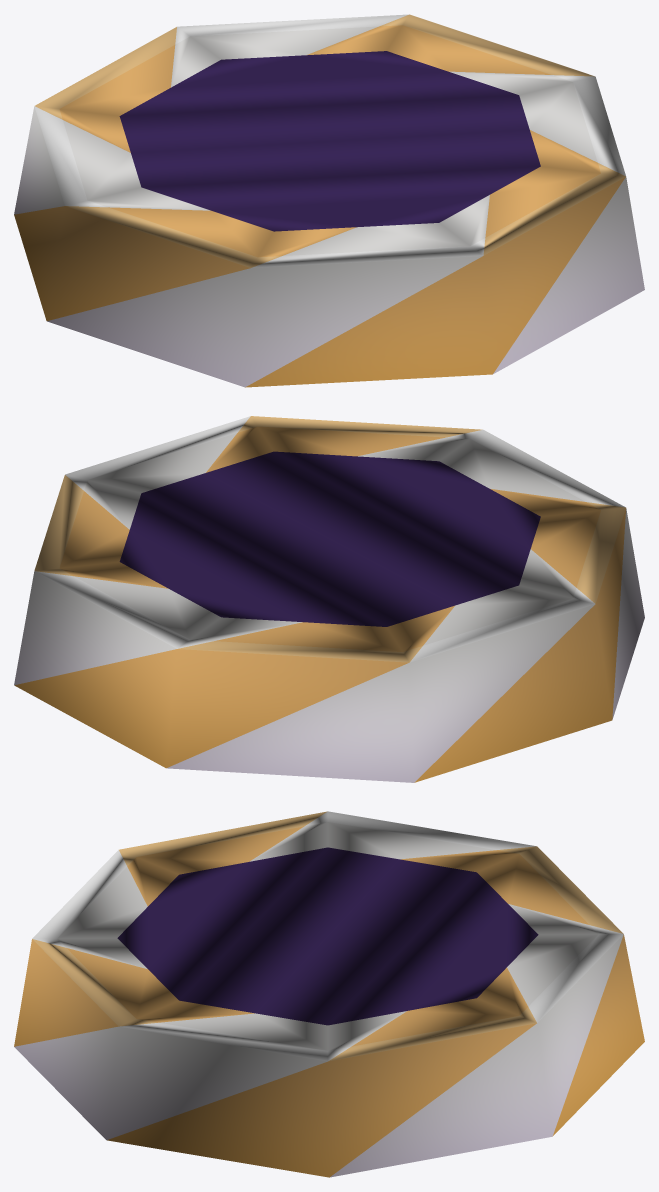
File: GaryCannonCannonBase_0.glb
3 views of the same model, one above another, from view 1: azimuth 30°, elevation 25°; view 2: azimuth 150°, elevation 25°; view 3: azimuth 270°, elevation 25° (orthographic). The views are drawn at different scales.
Visible parts, largest first — view 1: GaryCannonCannonBase; view 2: GaryCannonCannonBase; view 3: GaryCannonCannonBase.
Part boxes in pixels (<box>): GaryCannonCannonBase: <box>14,14,644,387</box>; GaryCannonCannonBase: <box>14,416,644,782</box>; GaryCannonCannonBase: <box>14,811,644,1177</box>.
Bounding box in the file's own units: 1.67 × 0.3288 × 1.67.
